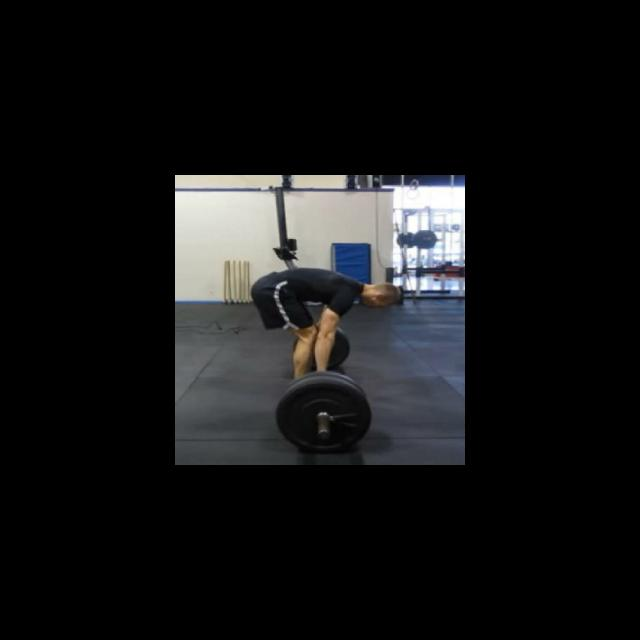barbell: (272, 376, 374, 456)
